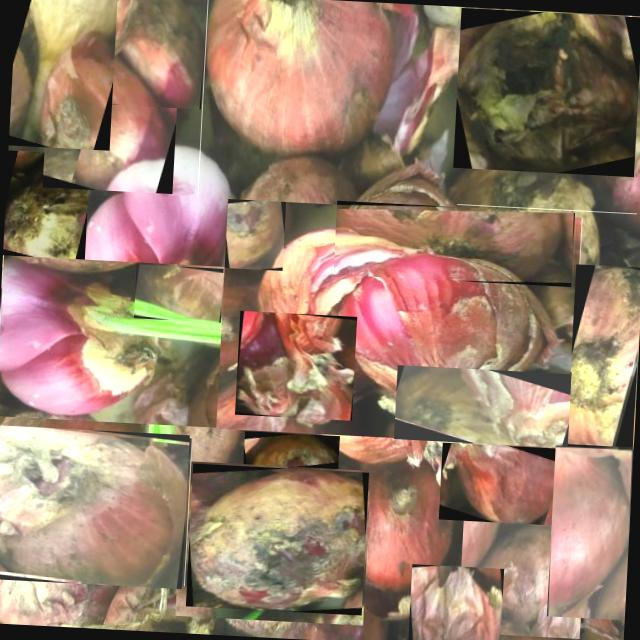rotten: (453, 8, 640, 177), (0, 425, 190, 589), (186, 464, 369, 616), (42, 28, 180, 194), (333, 201, 578, 287), (9, 0, 118, 150), (546, 446, 634, 620), (458, 521, 586, 639), (394, 365, 572, 448), (566, 265, 640, 454), (235, 311, 357, 421), (103, 0, 207, 109), (438, 443, 568, 526), (3, 150, 90, 260), (408, 564, 504, 640), (134, 264, 224, 322), (225, 199, 286, 271), (243, 431, 340, 469)
